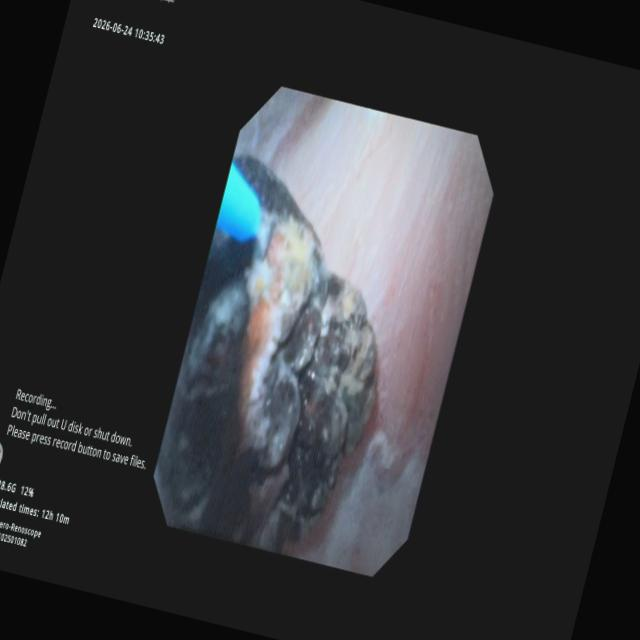stone-new: (154, 155, 377, 551)
